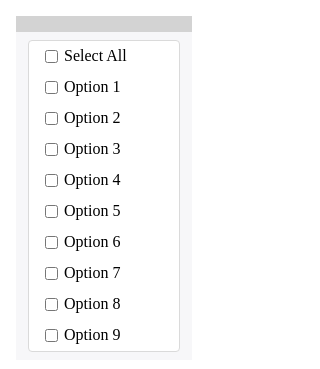
Scenario: MultiCheck › Select All interactions › should check all option checkboxes when clicking "Select All" checkbox
Click the checkbox showing "SELECT_ALL" at (52, 56), box x1=45 y1=50 x2=58 y2=63
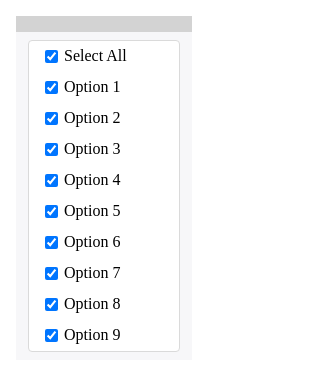
Now the checkbox showing "1" is checked, box x1=45 y1=81 x2=58 y2=94
Now the checkbox showing "2" is checked, box x1=45 y1=112 x2=58 y2=125
Now the checkbox showing "3" is checked, box x1=45 y1=143 x2=58 y2=156
